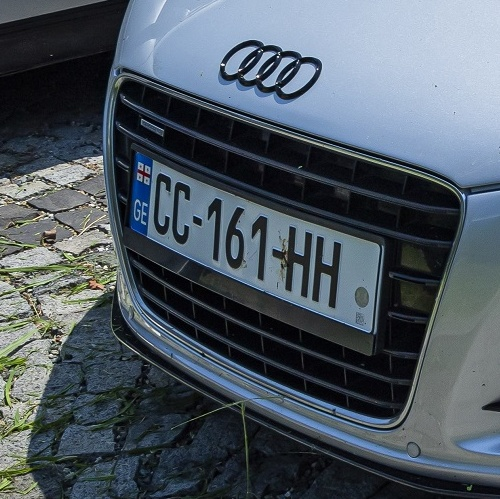plaka: (119, 142, 381, 357)
